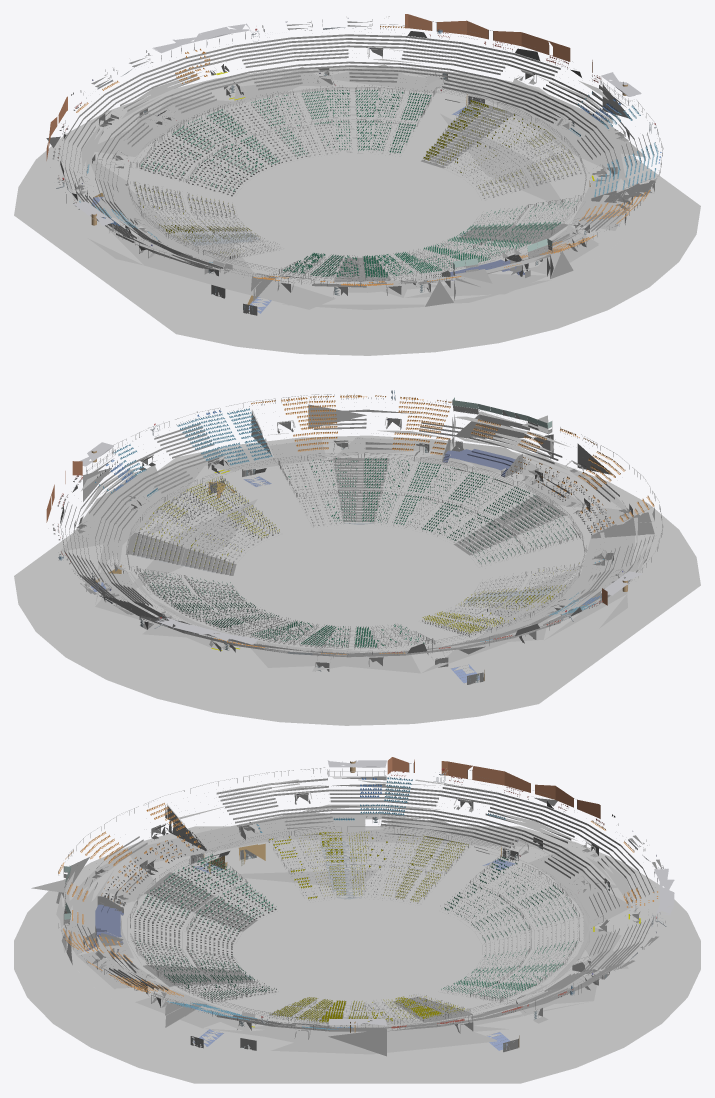
File: kspo.glb
3 views of the same model, one above another, from view 1: azimuth 30°, elevation 25°; view 2: azimuth 150°, elevation 25°; view 3: azimuth 270°, elevation 25° (orthographic).
Visible parts, largest first — view 1: geometry_0; view 2: geometry_0; view 3: geometry_0.
Part boxes in pixels (x1,y1,x2,y2): geometry_0: (14,14,700,355); geometry_0: (14,390,700,725); geometry_0: (14,757,700,1083).
Bounding box in the file's own units: 120 × 14.7 × 131.
